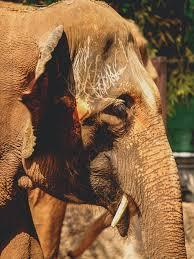elephant: (0, 0, 186, 258)
